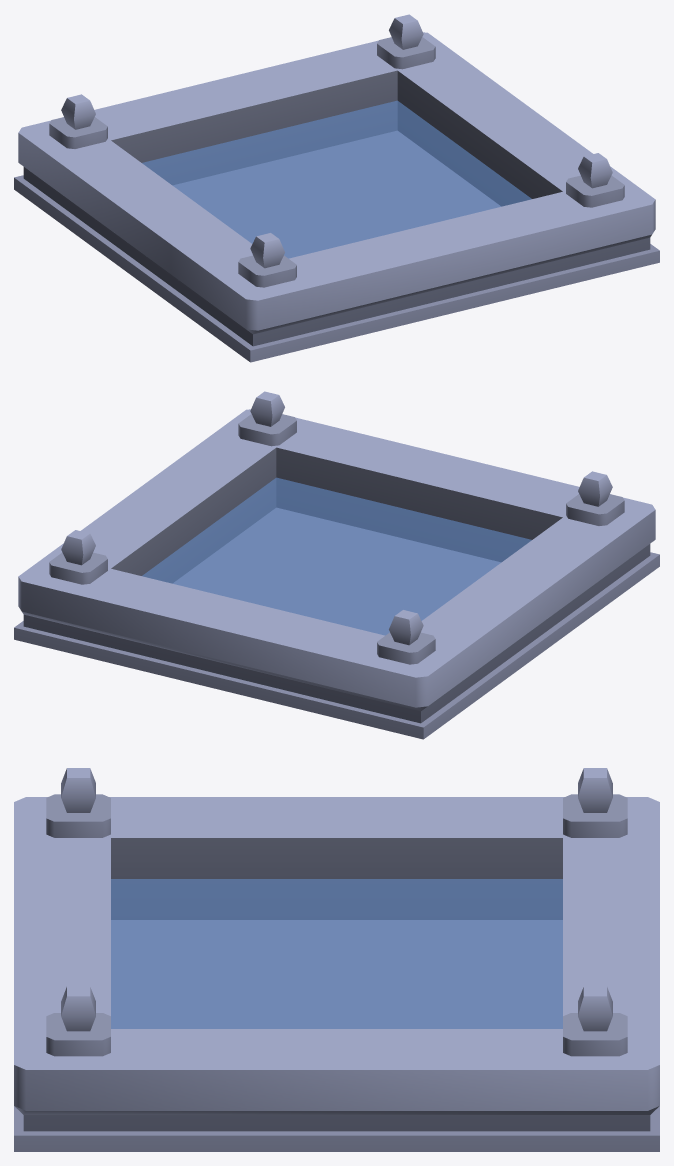
The model's file is fountain-square.glb.
3 views of the same model, one above another, from view 1: azimuth 30°, elevation 25°; view 2: azimuth 150°, elevation 25°; view 3: azimuth 270°, elevation 25° (orthographic). The views are drawn at different scales.
Parts seen in each view (by area): view 1: fountain-square, (%ignore); view 2: fountain-square, (%ignore); view 3: fountain-square, (%ignore).
Part boxes in pixels (box(x1,y1,x2,y2)): fountain-square: box(14, 14, 659, 362); (%ignore): box(142, 100, 531, 258); fountain-square: box(14, 391, 659, 739); (%ignore): box(142, 477, 531, 635); fountain-square: box(14, 768, 659, 1151); (%ignore): box(111, 879, 562, 1028).
Size of the model in its own units: 2 by 0.4552 by 2.
Materials: 2 (2 with a texture image).
